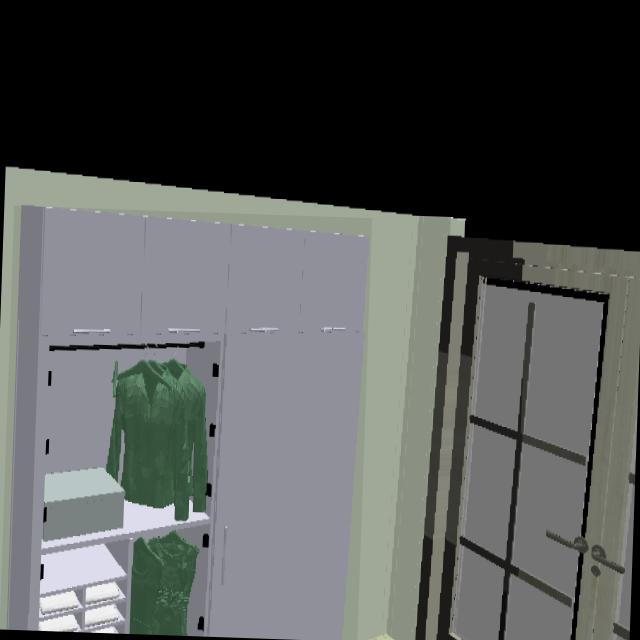wardrobe: (0, 206, 370, 640)
